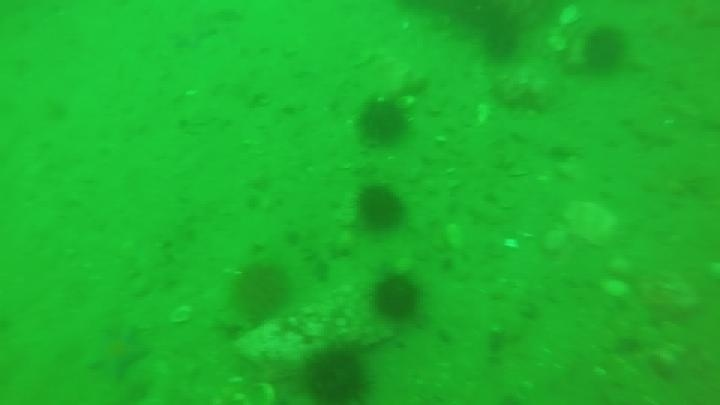echinus: (301, 345, 373, 404), (231, 261, 292, 321), (356, 97, 410, 148), (371, 273, 422, 323), (354, 184, 406, 233), (581, 26, 629, 76), (479, 20, 523, 63)
starfish: (85, 327, 150, 382), (166, 18, 220, 51)
